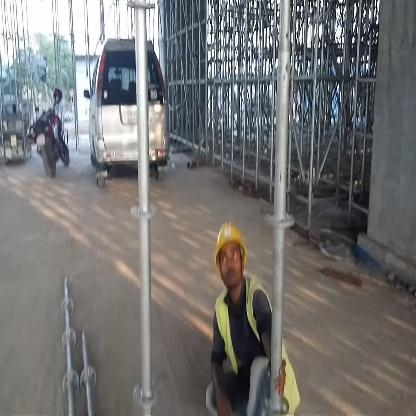helmet: (197, 214, 254, 293)
